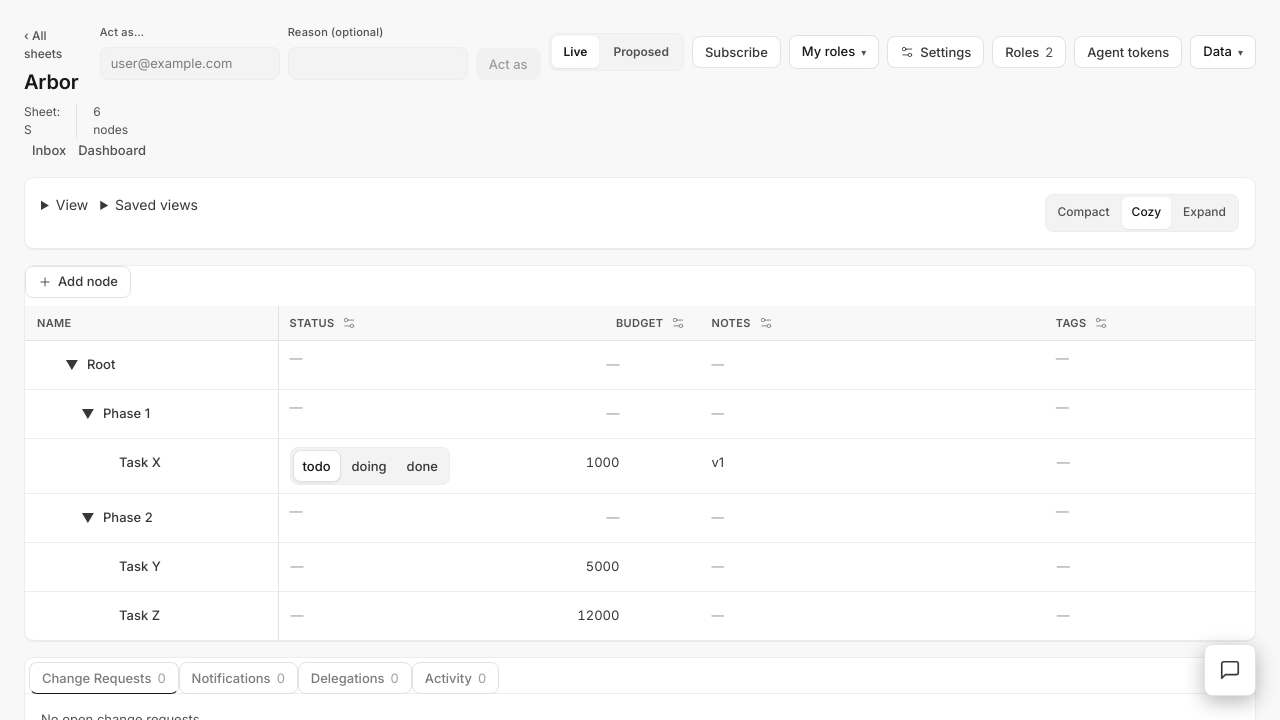
it: RolesModal — global header-launched admin Roles modal › the close button dismisses the modal
Expected: the table with test id "tree-table" is shown, x1=25 y1=306 x2=1255 y2=640
Click the button with test id "roles-admin-button" at (1029, 52), box x1=992 y1=36 x2=1066 y2=68
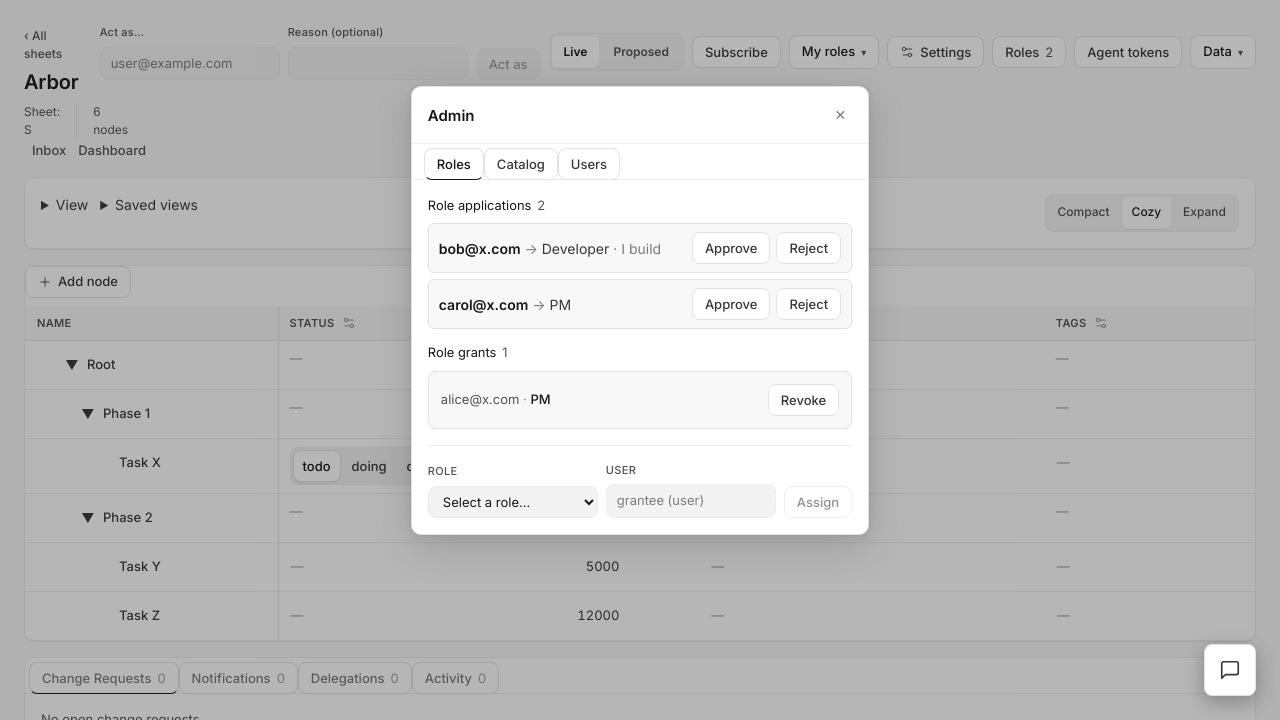
Now the element with test id "roles-modal" is shown
Click the button with test id "roles-modal-close" at (840, 115), box x1=828 y1=103 x2=852 y2=127
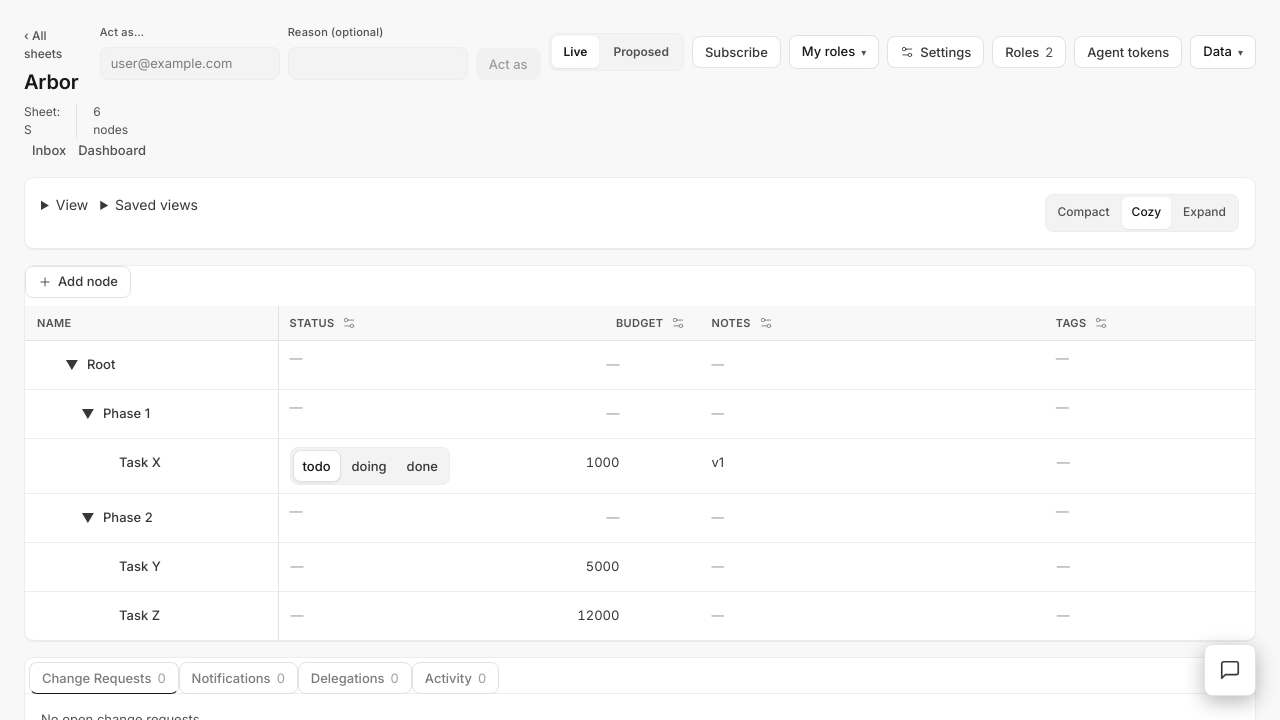
Now the element with test id "roles-modal" is gone
